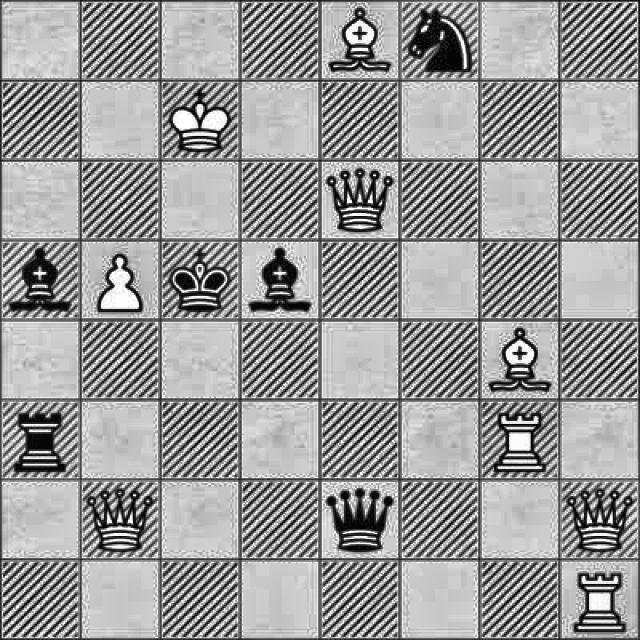Black Knight: (406, 6, 471, 78)
black bishop: (9, 242, 78, 320), (247, 248, 316, 320)
black king: (167, 245, 238, 318)
black queen: (321, 480, 396, 555)
black rook: (5, 407, 69, 475)
white bishop: (325, 7, 396, 80), (485, 322, 553, 396)
white king: (168, 83, 232, 155)
white pawn: (88, 241, 148, 316)
white queen: (562, 480, 640, 561), (323, 158, 394, 236), (83, 481, 155, 557)
white rook: (565, 563, 630, 640), (490, 401, 545, 477)
